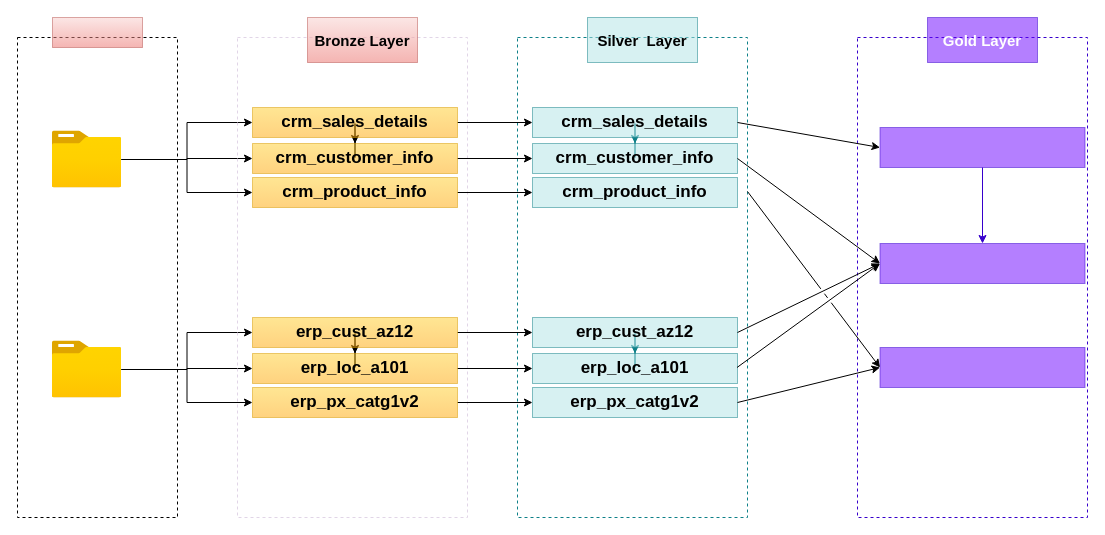
The diagram is 1105 pixels wide and 535 high, and some of its shapes have lost their labels. The centre of each missing label's shape, as x and y in pixels:
"CRM" belongs at pixel 86 159.
"dim_customers" belongs at pixel 982 263.
"dim_product" belongs at pixel 982 367.
"ERP" belongs at pixel 86 369.
"fact_sales" belongs at pixel 982 147.
"Sources" belongs at pixel 97 32.
